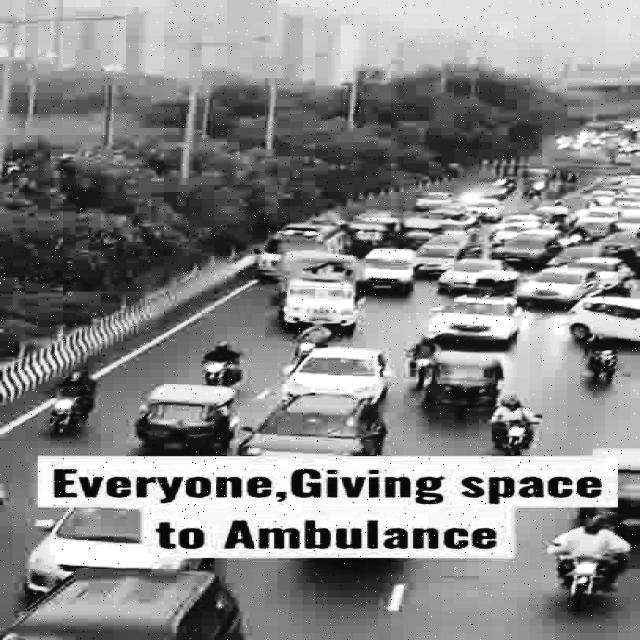Ambulance: (253, 222, 355, 270)
